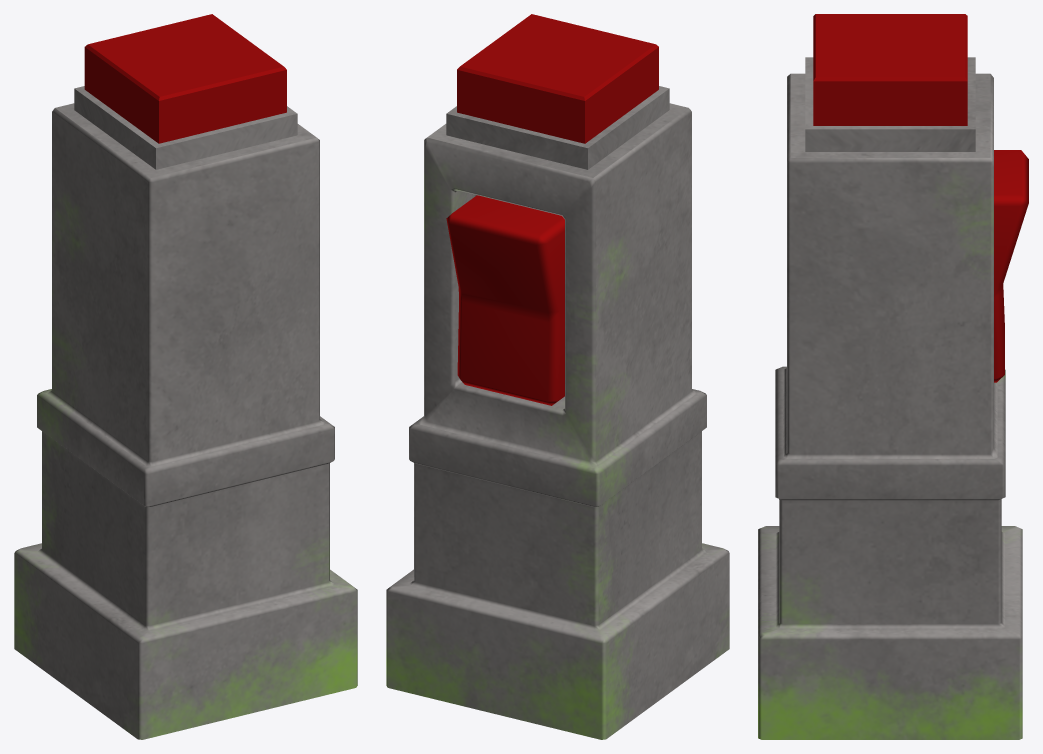
Rendered from switch.fbx.
3 views of the same model, side by side, from view 1: azimuth 30°, elevation 25°; view 2: azimuth 150°, elevation 25°; view 3: azimuth 270°, elevation 25° (orthographic). The views are drawn at different scales.
Parts seen in each view (by area): view 1: pCube1; view 2: pCube1, pCube2; view 3: pCube1, pCube2.
Part boxes in pixels (left/top/right/bottom): pCube1: left=14, top=14, right=357, bottom=739; pCube1: left=386, top=14, right=729, bottom=739; pCube2: left=446, top=195, right=564, bottom=405; pCube1: left=758, top=14, right=1022, bottom=739; pCube2: left=994, top=150, right=1028, bottom=382.
Size of the model in its own units: 33.28 by 88.58 by 34.04.
2 materials, 1 textured.
